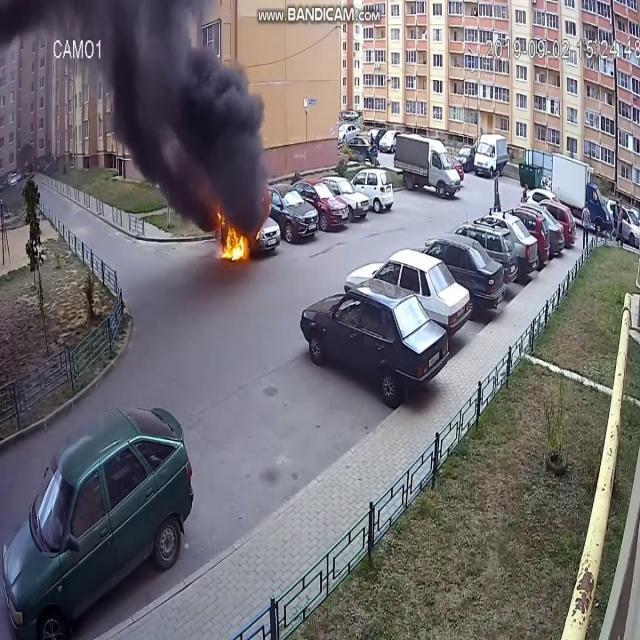Fire: (216, 212, 250, 264)
Smoke: (98, 1, 270, 210)
